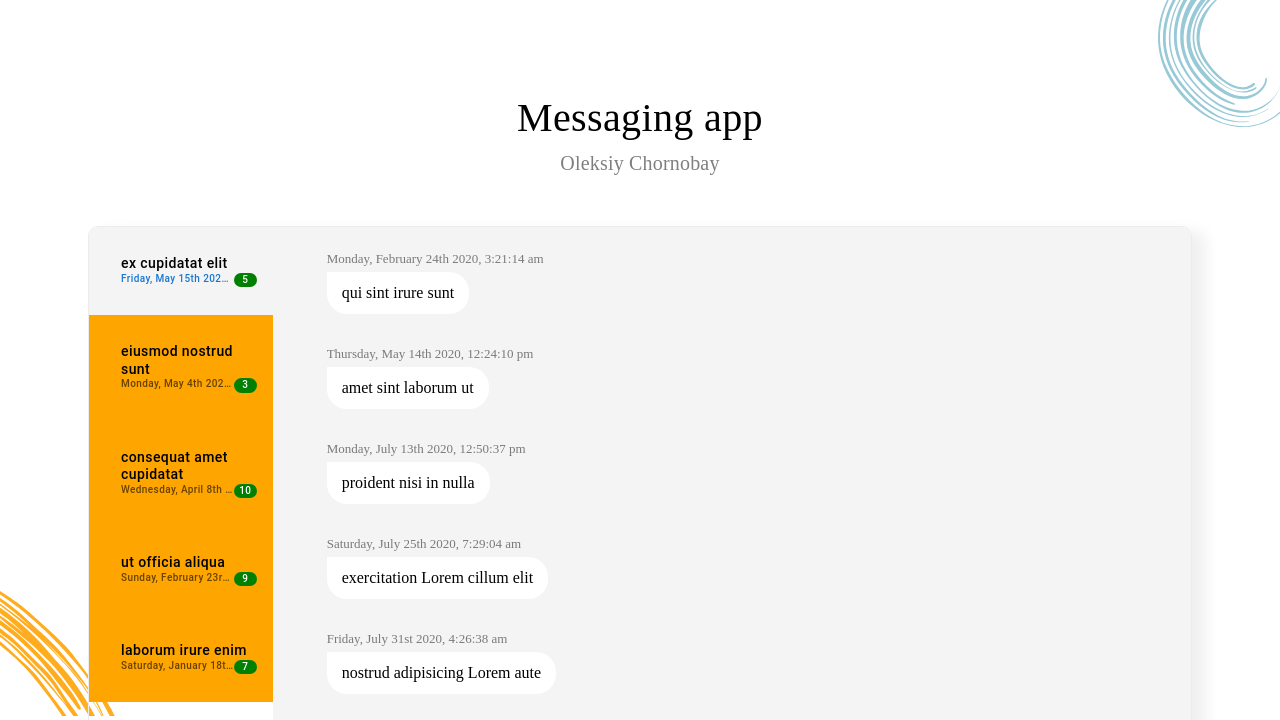
Test: Message App › will render correct messages when selecting a conversation
Expected: the text "qui sint irure sunt" is shown, [327, 272, 469, 314]
Expected: the text "amet sint laborum ut" is shown, [327, 367, 489, 409]
Click the tab "eiusmod nostrud sunt Monday, May 4th 2020, 3:37:18 am 3" at (181, 368), box [89, 315, 273, 420]
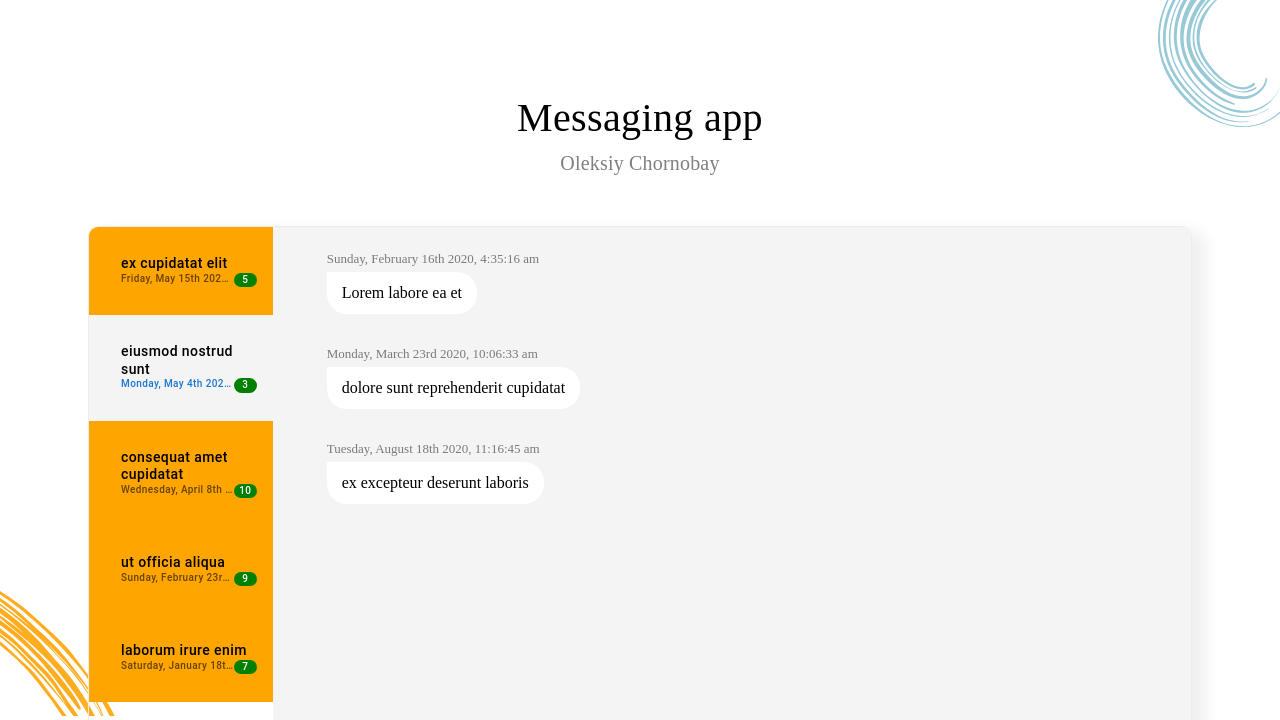
Expected: the text "Lorem labore ea et" is shown, [327, 272, 477, 314]
Expected: the text "dolore sunt reprehenderit cupidatat" is shown, [327, 367, 580, 409]
Expected: the text "ex excepteur deserunt laboris" is shown, [327, 462, 544, 504]
